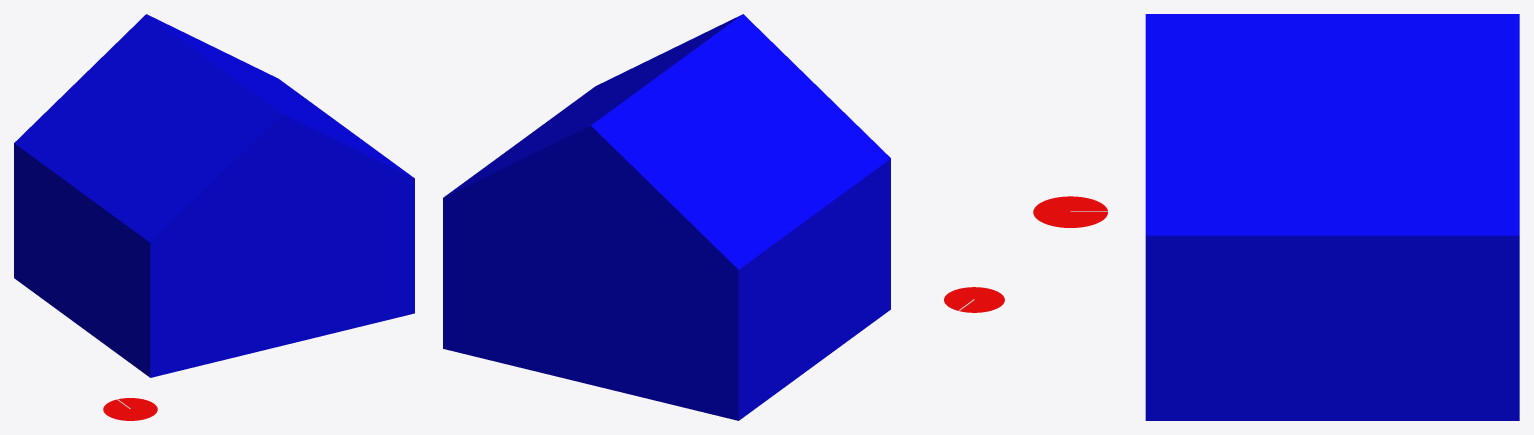
The model's file is result.glb.
3 renders of one model, left to right at view 1: azimuth 30°, elevation 25°; view 2: azimuth 150°, elevation 25°; view 3: azimuth 270°, elevation 25°, orthographic. The views are drawn at different scales.
Visible parts, largest first — view 1: b86a57e3-f581-48f5-87dd-ffc5a95049bd__undefined, 7320afdd-5e8f-4a62-9dd4-dcd20b1b7250__Circle; view 2: b86a57e3-f581-48f5-87dd-ffc5a95049bd__undefined, 7320afdd-5e8f-4a62-9dd4-dcd20b1b7250__Circle; view 3: b86a57e3-f581-48f5-87dd-ffc5a95049bd__undefined, 7320afdd-5e8f-4a62-9dd4-dcd20b1b7250__Circle.
Boxes of the visible parts, x1,y1,x2,y2 form: b86a57e3-f581-48f5-87dd-ffc5a95049bd__undefined: (14,14,414,377); 7320afdd-5e8f-4a62-9dd4-dcd20b1b7250__Circle: (103,398,157,420); b86a57e3-f581-48f5-87dd-ffc5a95049bd__undefined: (443,14,890,420); 7320afdd-5e8f-4a62-9dd4-dcd20b1b7250__Circle: (944,287,1004,312); b86a57e3-f581-48f5-87dd-ffc5a95049bd__undefined: (1145,14,1519,420); 7320afdd-5e8f-4a62-9dd4-dcd20b1b7250__Circle: (1033,196,1107,227).
Bounding box in the file's own units: 710 × 469 × 650.
